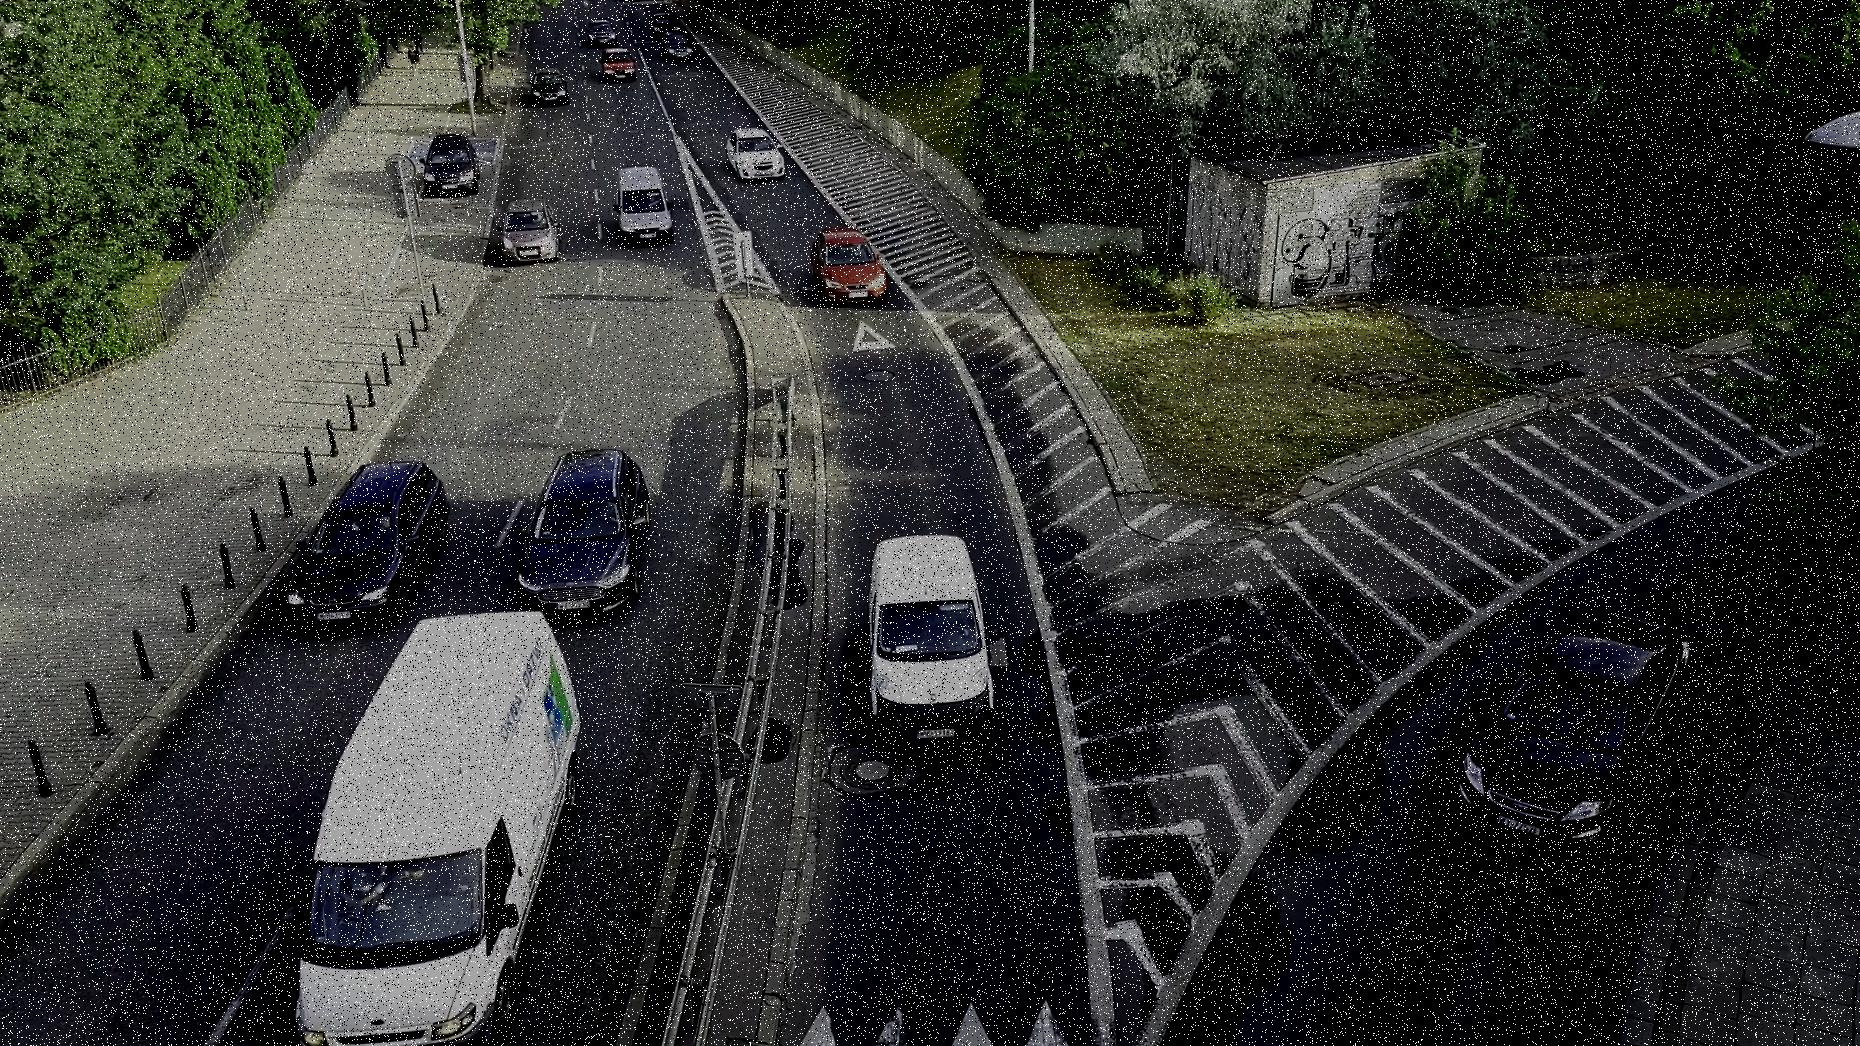car: (241, 609, 583, 1046), (1428, 584, 1699, 863), (860, 527, 1003, 762), (277, 461, 450, 632), (512, 439, 662, 619), (807, 225, 892, 307), (612, 161, 683, 243), (496, 199, 566, 271), (419, 130, 491, 201), (720, 126, 791, 183), (530, 66, 574, 107), (600, 47, 639, 83), (659, 31, 697, 63), (585, 19, 620, 47), (649, 13, 683, 40)
